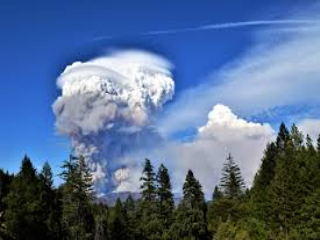smoke: (46, 47, 174, 194)
